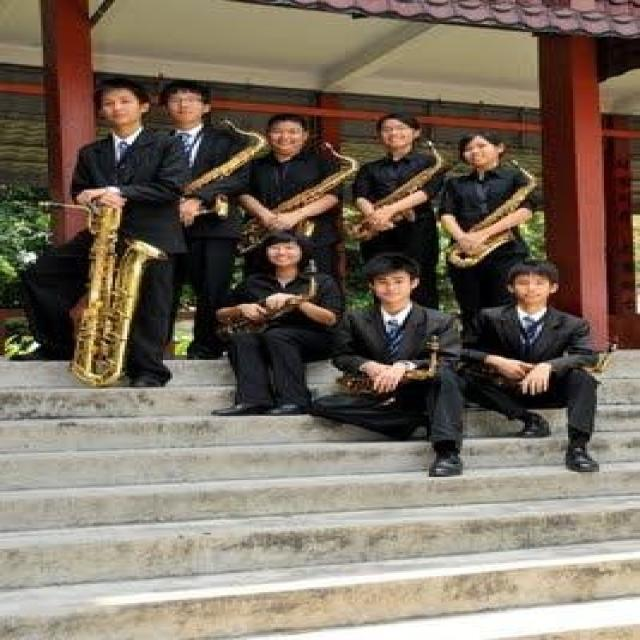saxophone: (40, 191, 169, 388), (444, 160, 544, 269), (347, 139, 445, 239)
